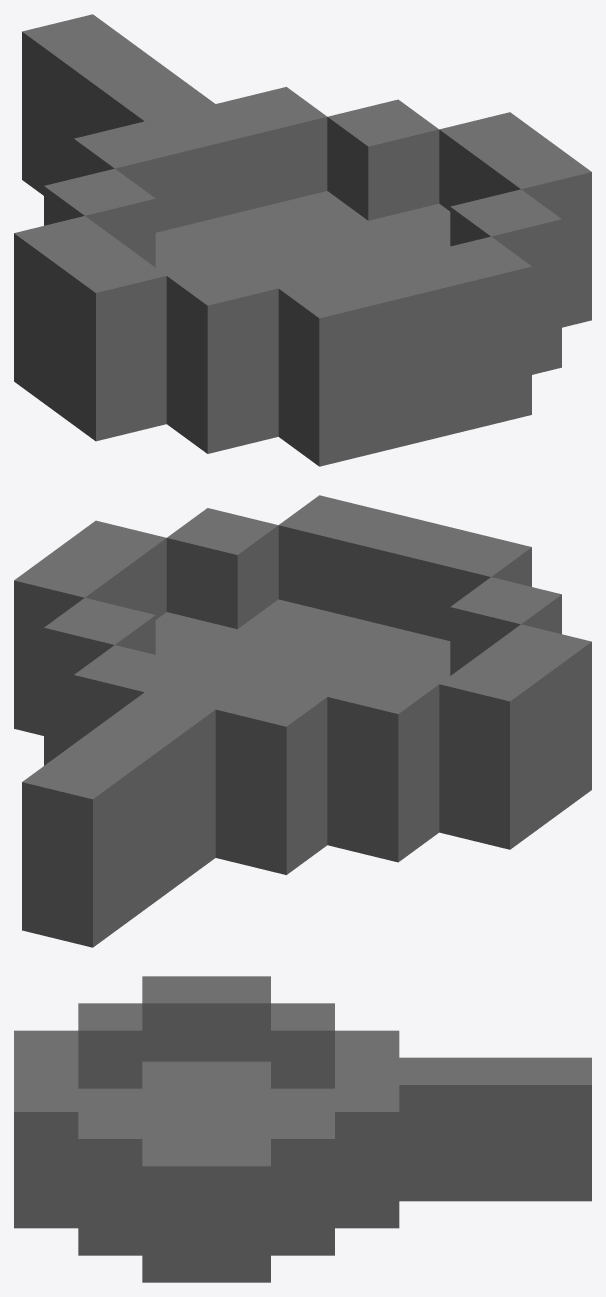
The model's file is pan.obj.
The picture shows the model from 3 angles, top to bottom: view 1: azimuth 30°, elevation 25°; view 2: azimuth 150°, elevation 25°; view 3: azimuth 270°, elevation 25°; orthographic projection. The views are drawn at different scales.
Bounding box in the file's own units: 0.7 × 0.2 × 0.9.
1 material, 1 textured.
